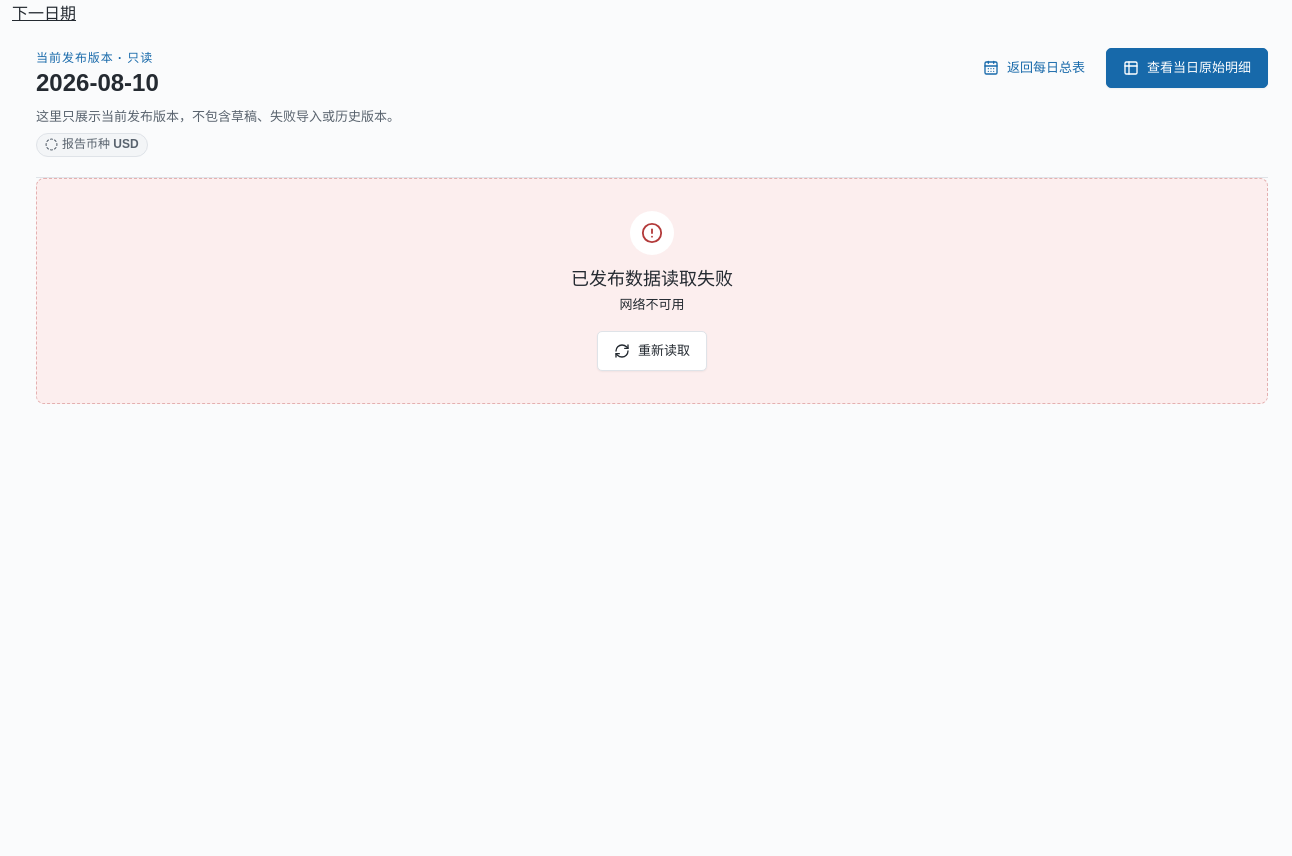
retries failures and links to the exact day of original details
This screenshot has width=1292, height=856.
Check: the message shows "网络不可用", box [620,297,684,312]
Step 1. Click the button "重新读取" → coordinates (652, 351), box [597,331,707,371]
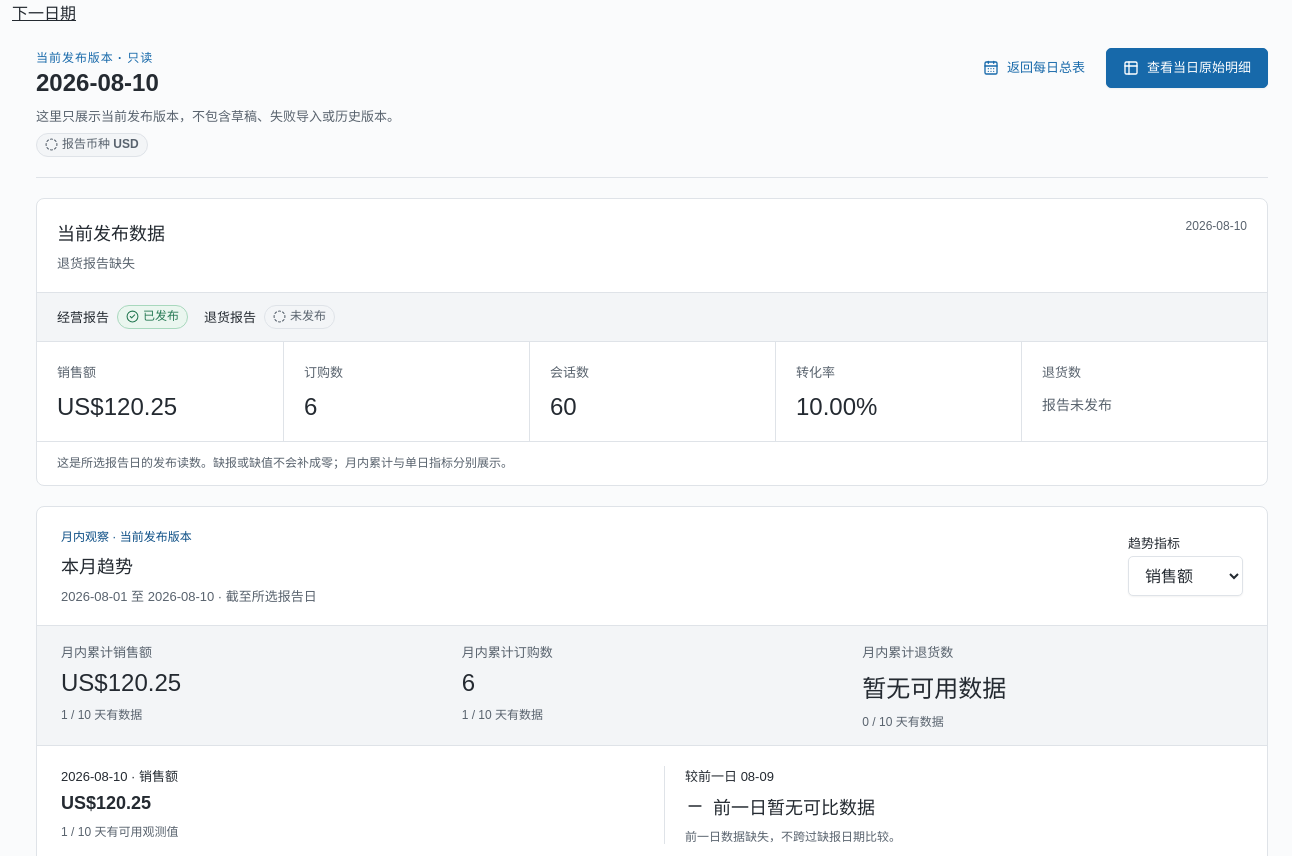
Check: the text "10.00%" is shown, box [796,393,877,420]
